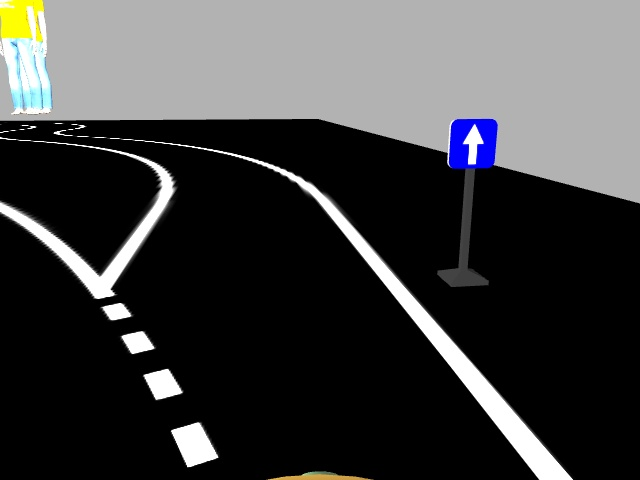OneWay: (448, 116, 496, 168)
